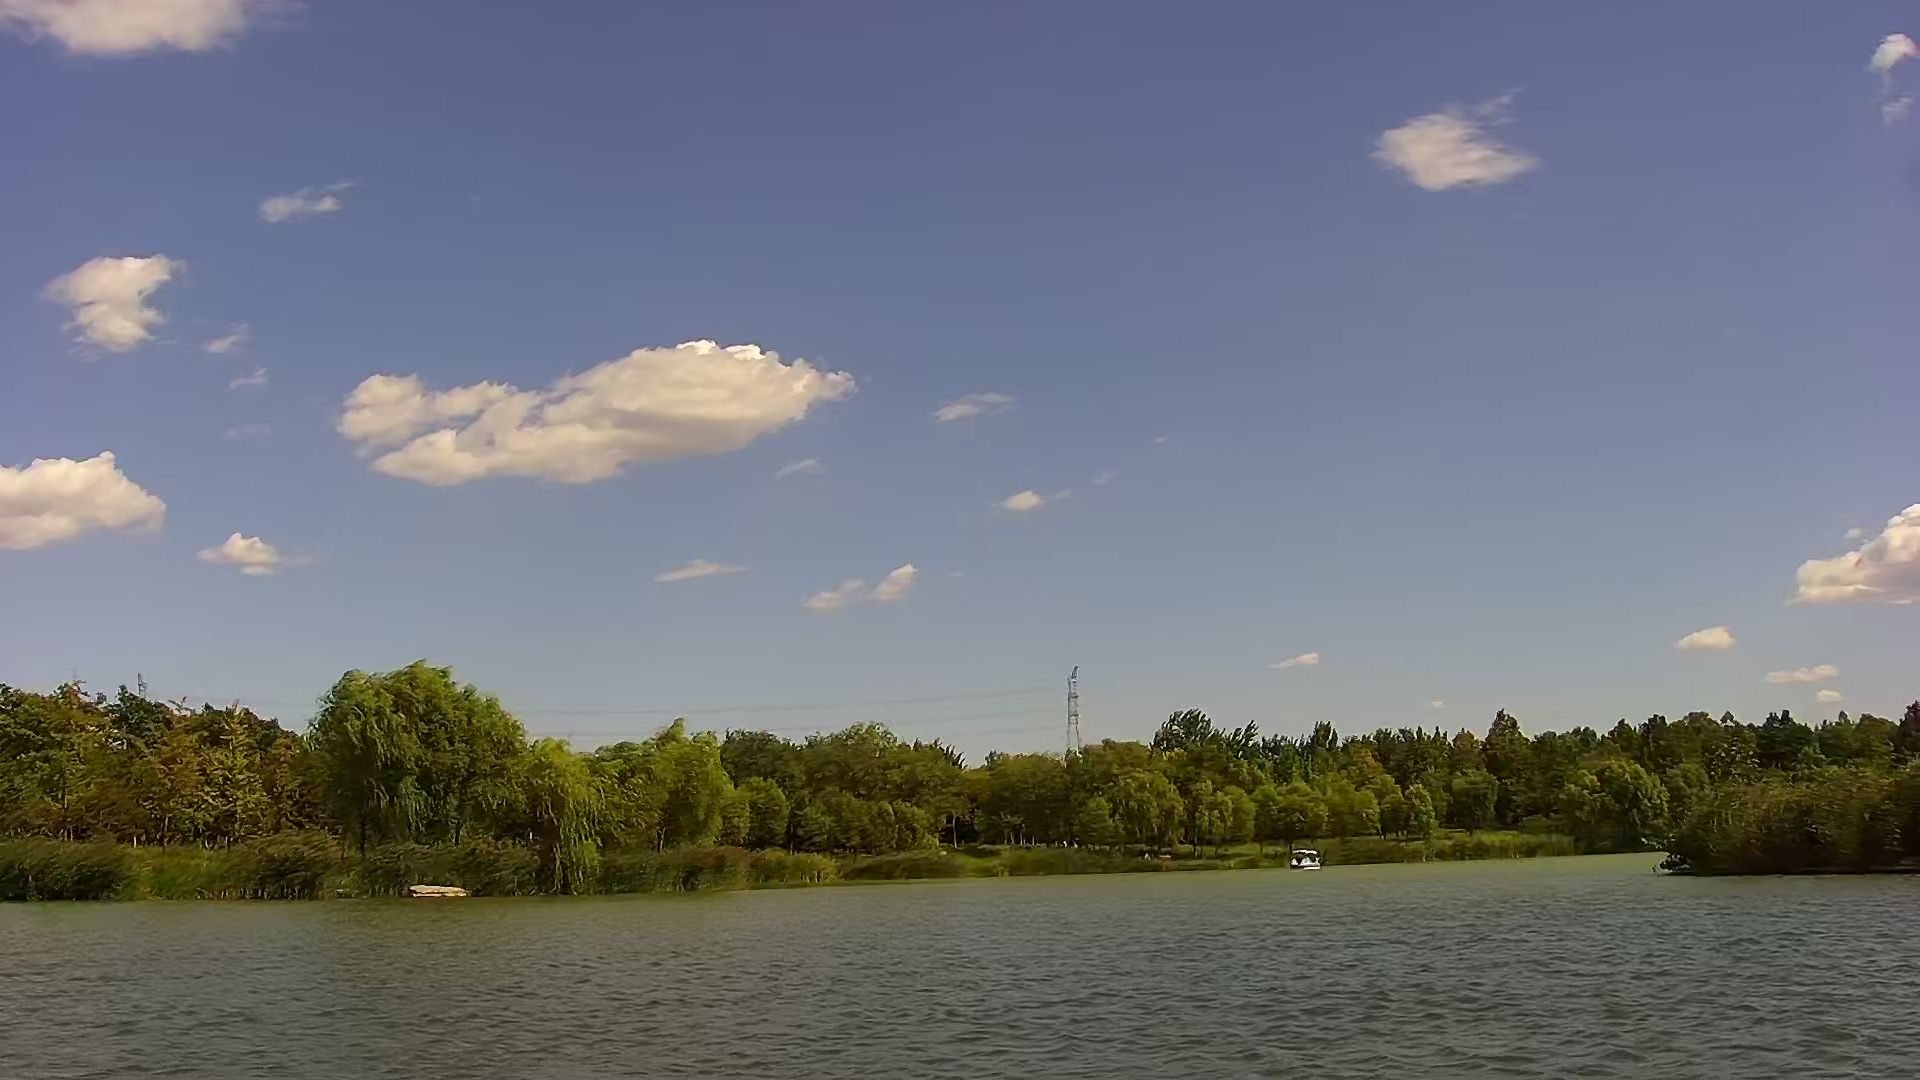boat: (1290, 845, 1321, 866)
rock: (413, 884, 465, 899)
